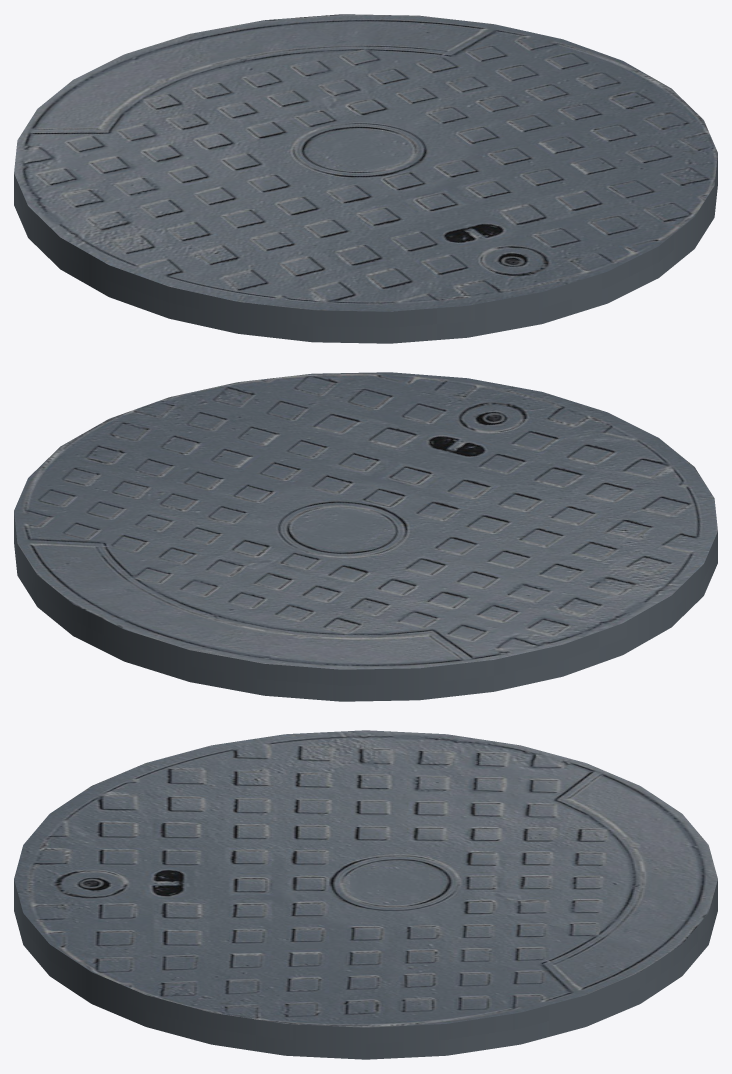
Rendered from yjg.gltf.
3 renders of one model, top to bottom at view 1: azimuth 30°, elevation 25°; view 2: azimuth 150°, elevation 25°; view 3: azimuth 270°, elevation 25°, orthographic.
Visible parts, largest first — view 1: KJG001; view 2: KJG001; view 3: KJG001.
Boxes of the visible parts, bbox=[...] form: KJG001: bbox=[14, 14, 717, 343]; KJG001: bbox=[14, 372, 717, 701]; KJG001: bbox=[14, 730, 717, 1059].
Size of the model in its own units: 0.6 by 0.03 by 0.6.
Materials: 2 (2 with a texture image).
